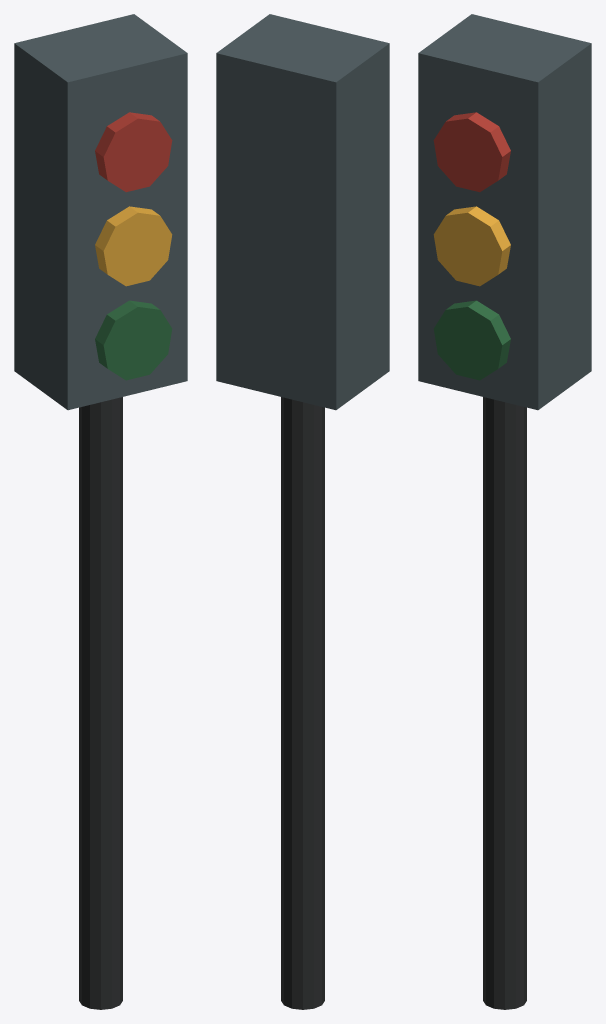
File: 047_traffic_signal.glb
3 views of the same model, side by side, from view 1: azimuth 30°, elevation 25°; view 2: azimuth 150°, elevation 25°; view 3: azimuth 330°, elevation 25° (orthographic).
Parts seen in each view (by area): view 1: Traffic signal; view 2: Traffic signal; view 3: Traffic signal.
Part boxes in pixels (x1,y1,x2,y2): Traffic signal: [14, 14, 187, 1009]; Traffic signal: [216, 14, 389, 1009]; Traffic signal: [418, 14, 591, 1009].
Size of the model in its own units: 0.44 by 3.34 by 0.405.
